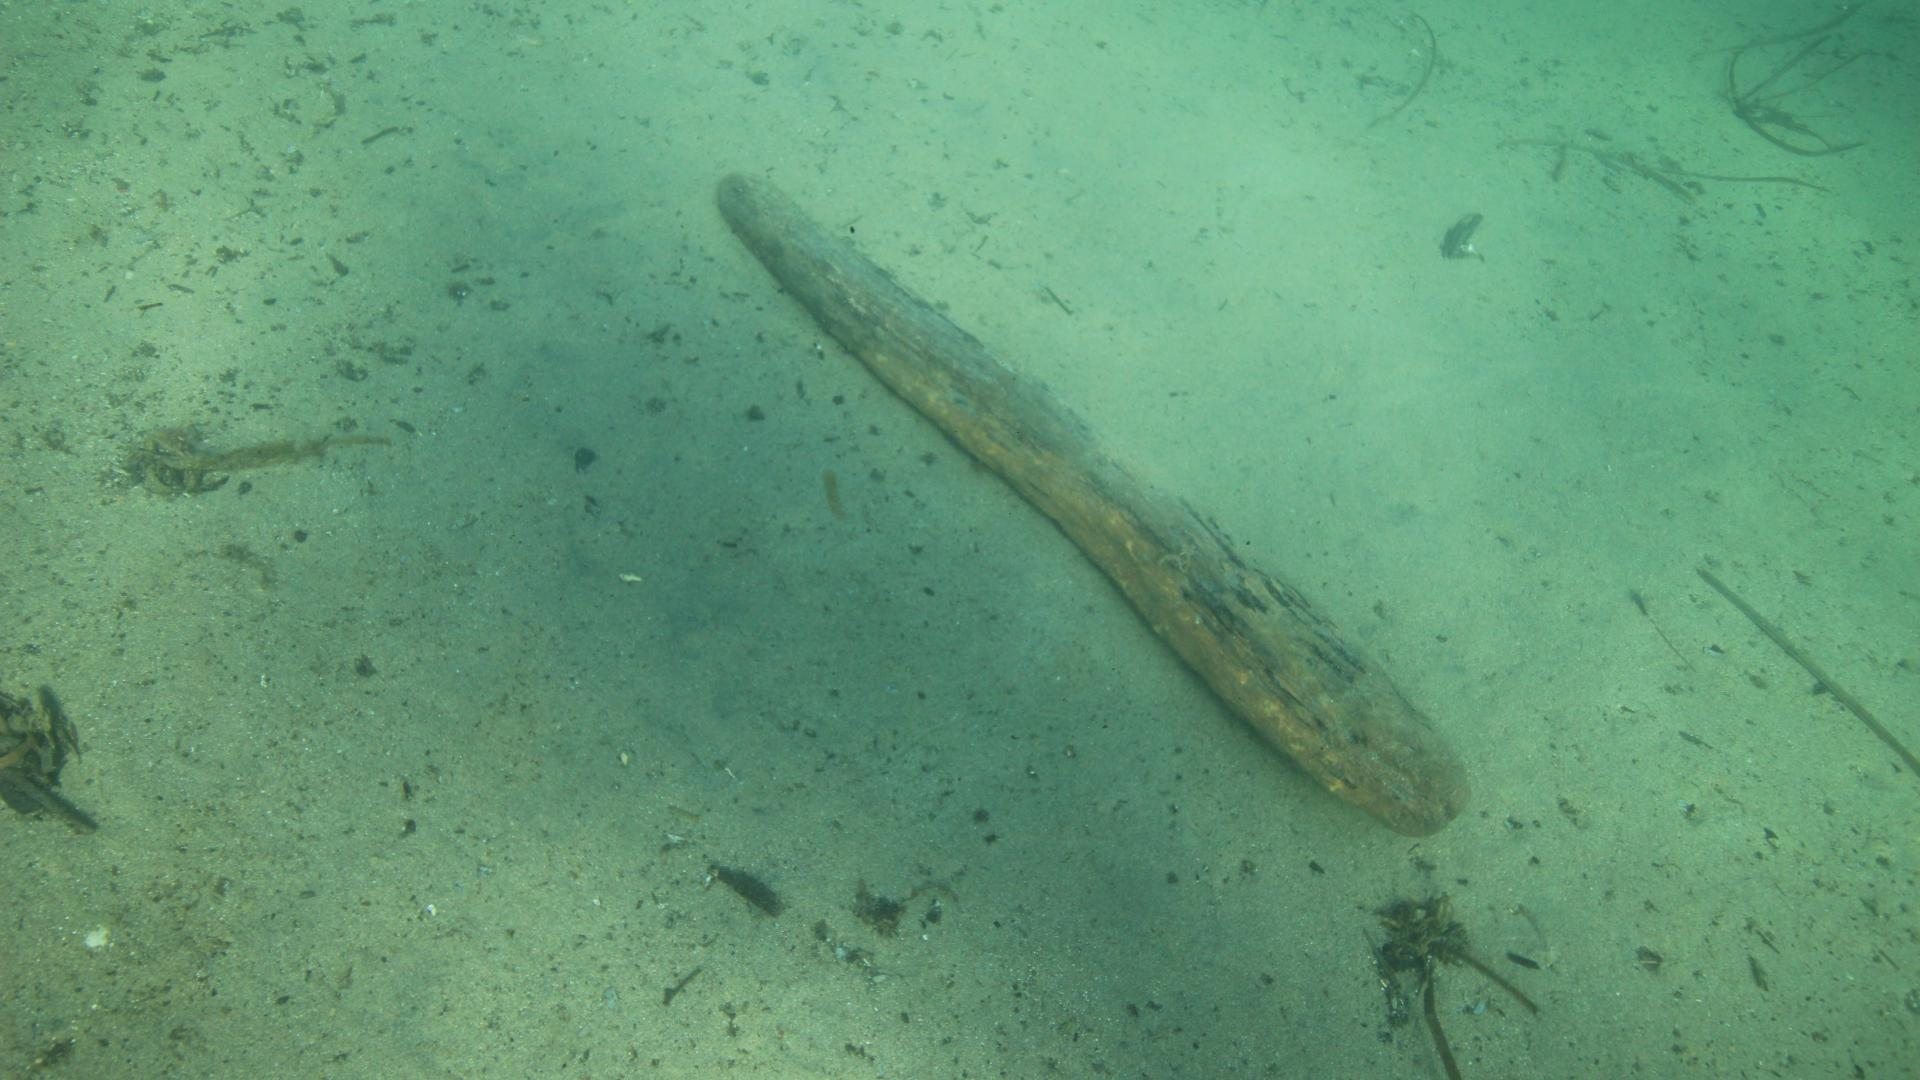wood: (715, 171, 1469, 837)
